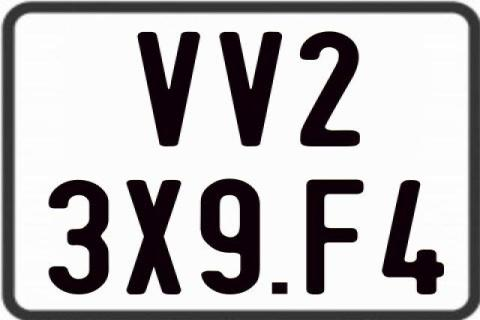0: (382, 179, 449, 293), (49, 177, 110, 297), (300, 29, 362, 147), (198, 176, 260, 294)
F: (306, 178, 367, 294)
V: (218, 31, 285, 147), (138, 30, 203, 146)
X: (125, 180, 185, 299)
